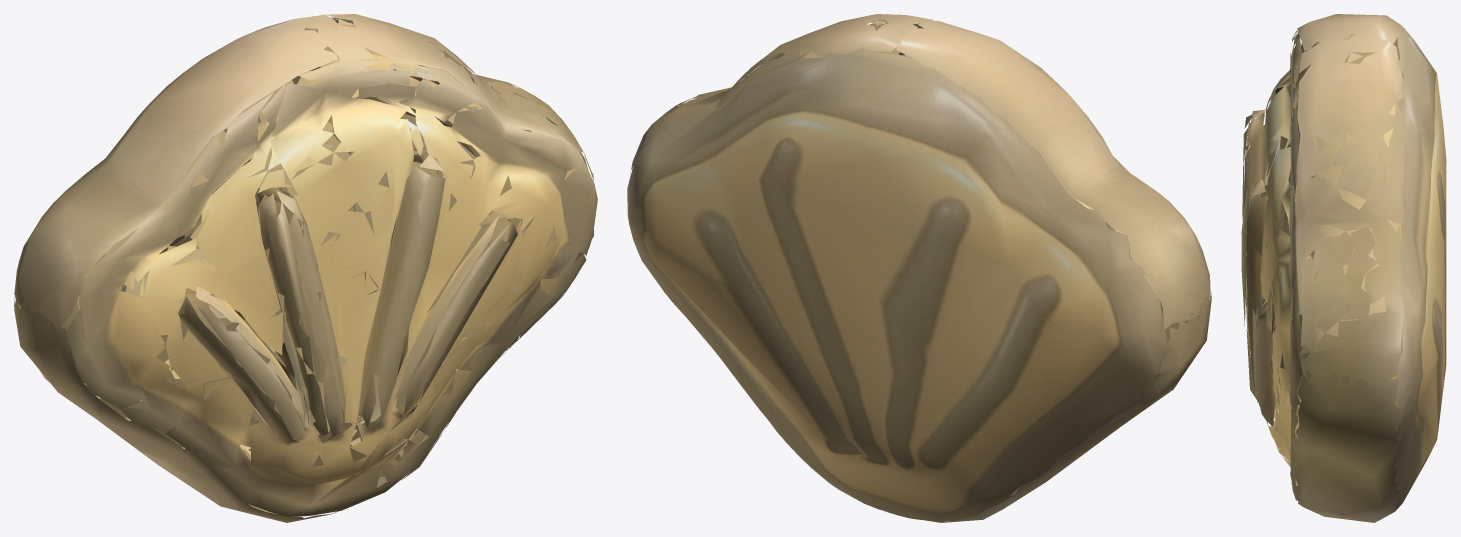
The model's file is shell.glb.
The picture shows the model from 3 angles, left to right: view 1: azimuth 30°, elevation 25°; view 2: azimuth 150°, elevation 25°; view 3: azimuth 270°, elevation 25°; orthographic projection. The views are drawn at different scales.
Bounding box in the file's own units: 0.08 × 0.0666 × 0.0263.
Materials: 1 (1 with a texture image).
